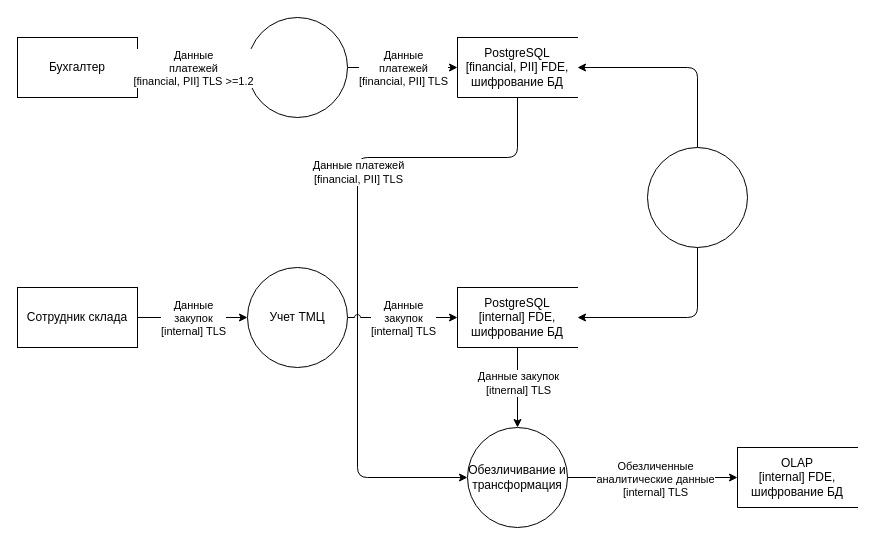
This 875x545 diagram has some shape labels left out. The shapes that lost their labels are listed below. From the top down, each one's centre as x and y in pixels, then its label:
At (297,67): "Процессинг платежей".
At (697,197): "Обмен данными".
